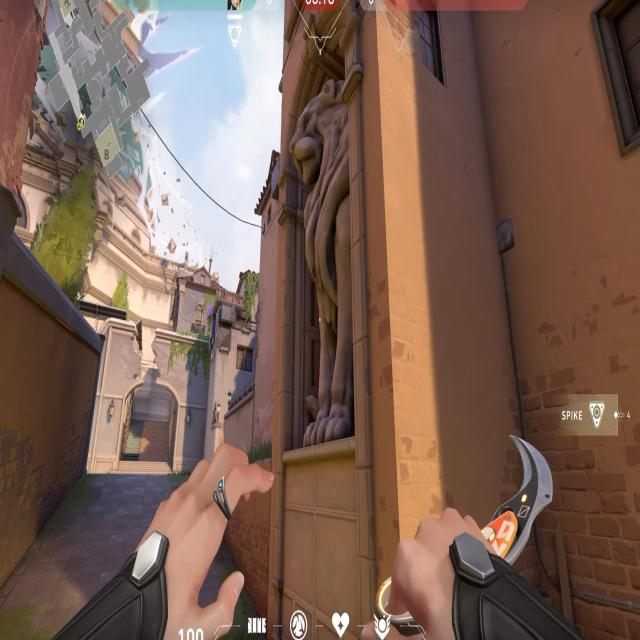Lion_Corner: (273, 61, 370, 603)
